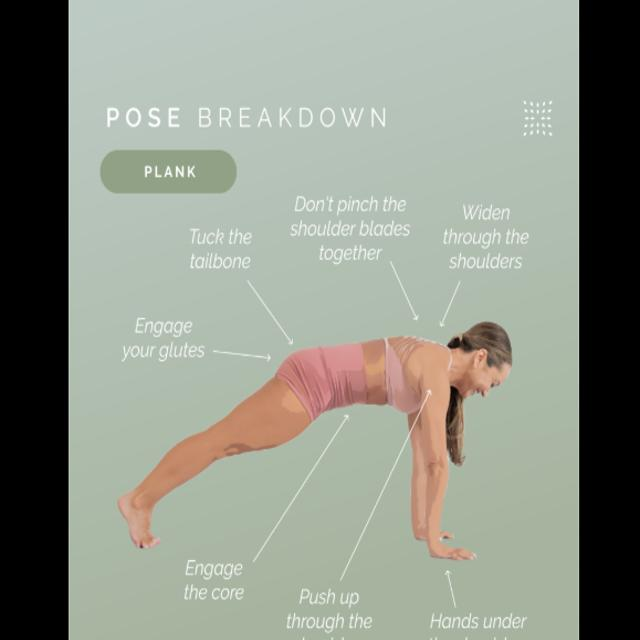Plank_Pose: (114, 315, 516, 567)
